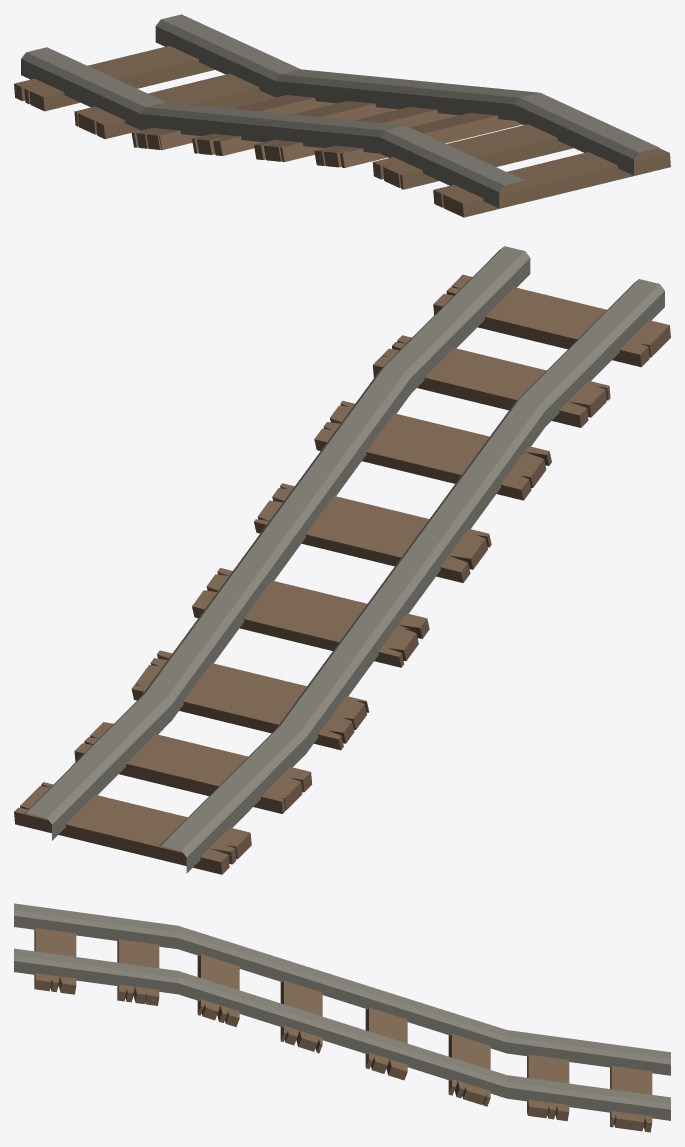
The model's file is Cave_Prop_Railway_Hill_Gentle.glb.
3 renders of one model, top to bottom at view 1: azimuth 30°, elevation 25°; view 2: azimuth 150°, elevation 25°; view 3: azimuth 270°, elevation 25°, orthographic. The views are drawn at different scales.
Parts seen in each view (by area): view 1: Cave_Prop_Railway_Hill_Gentle; view 2: Cave_Prop_Railway_Hill_Gentle; view 3: Cave_Prop_Railway_Hill_Gentle.
Boxes of the visible parts, left/top/right/bottom form: Cave_Prop_Railway_Hill_Gentle: left=14, top=14, right=670, bottom=217; Cave_Prop_Railway_Hill_Gentle: left=14, top=246, right=670, bottom=874; Cave_Prop_Railway_Hill_Gentle: left=14, top=903, right=670, bottom=1132.
Size of the model in its own units: 1 by 1.13 by 4.
